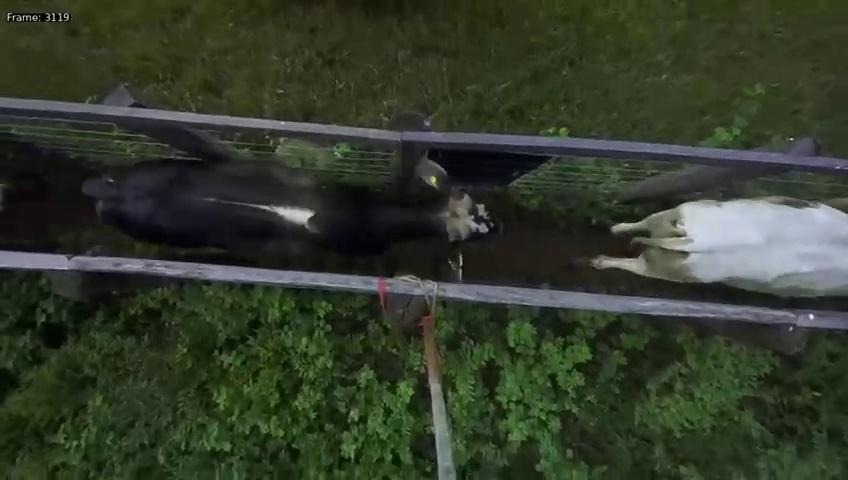cattle: (30, 145, 504, 285)
